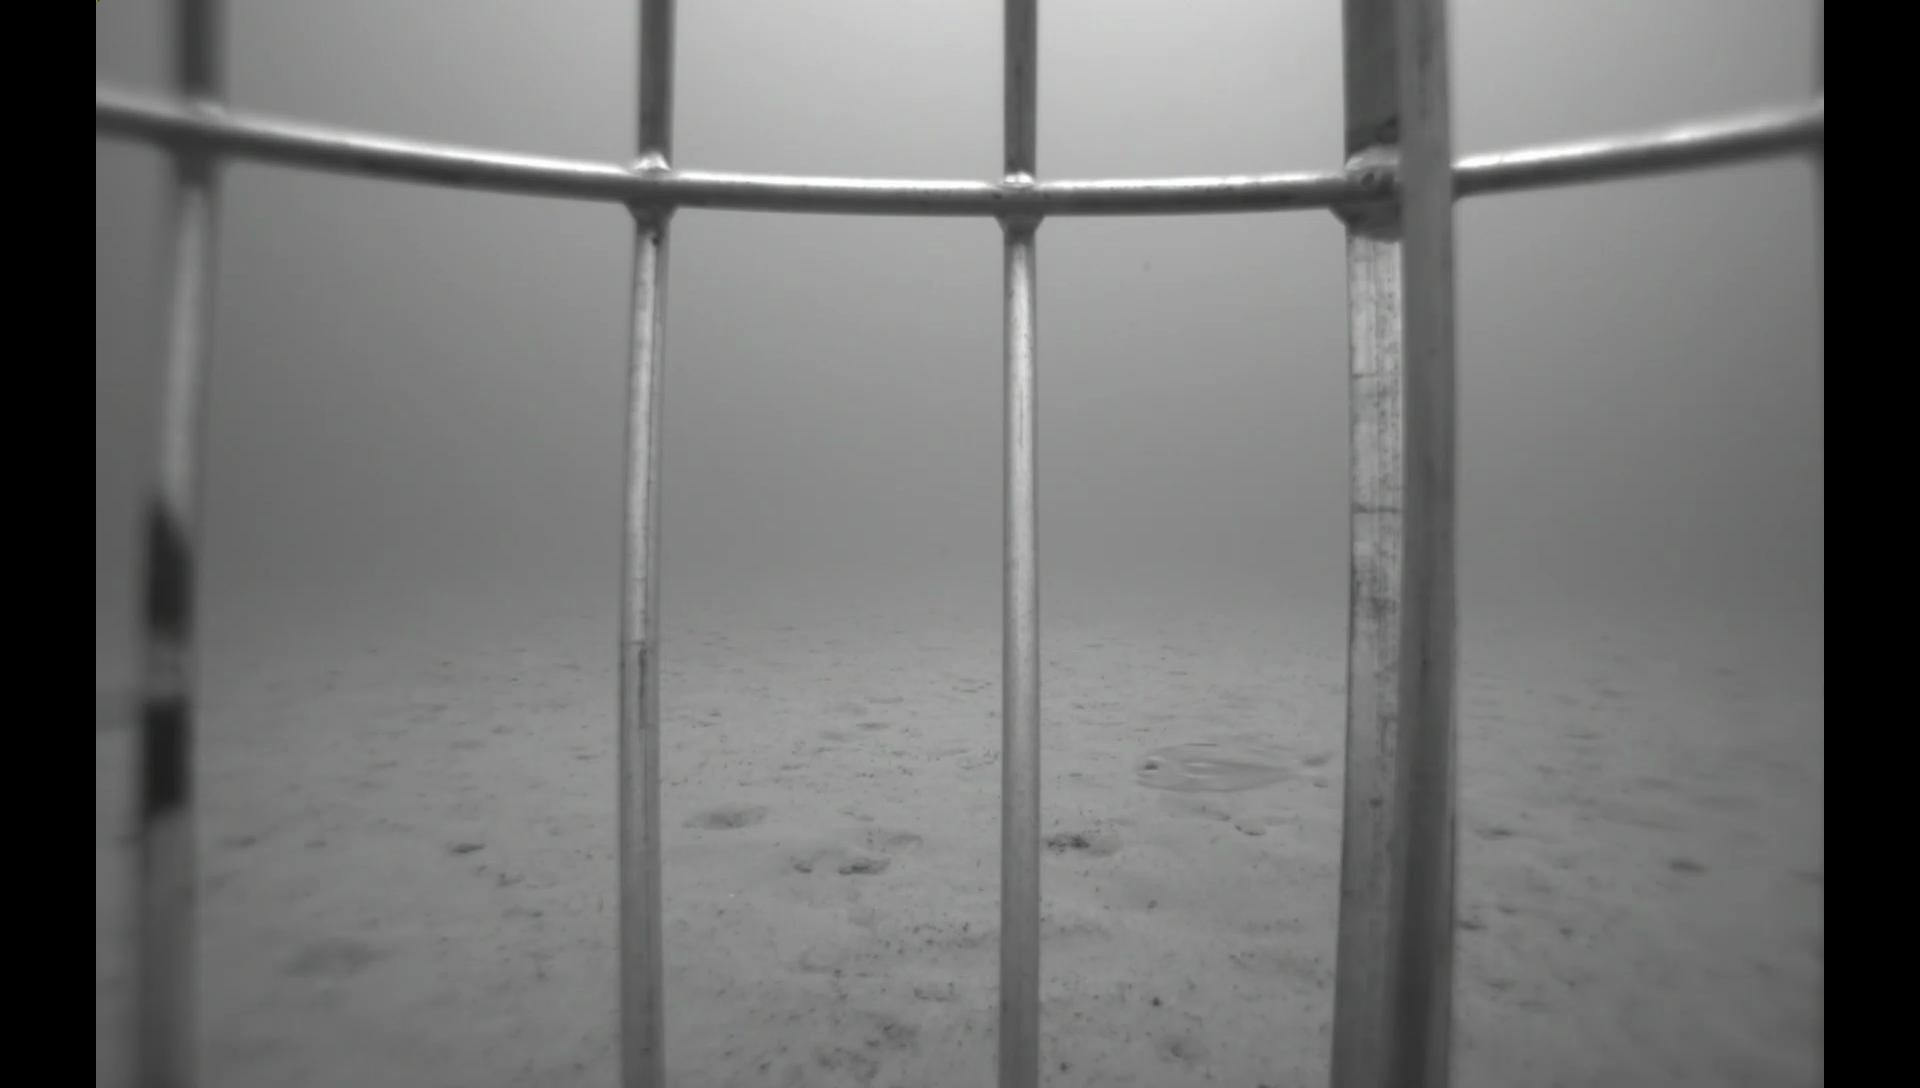CAULOLATILUSCYANOPS-170070101: (1122, 731, 1348, 802)
